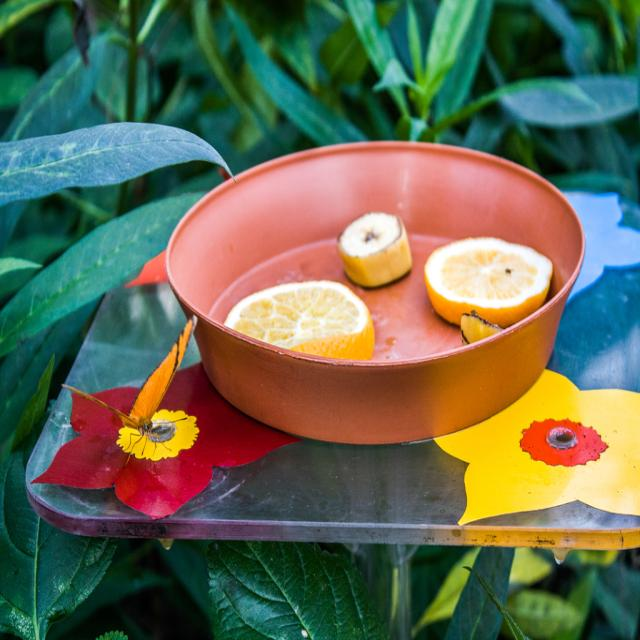Lemon: (426, 234, 556, 325), (337, 211, 414, 282)
